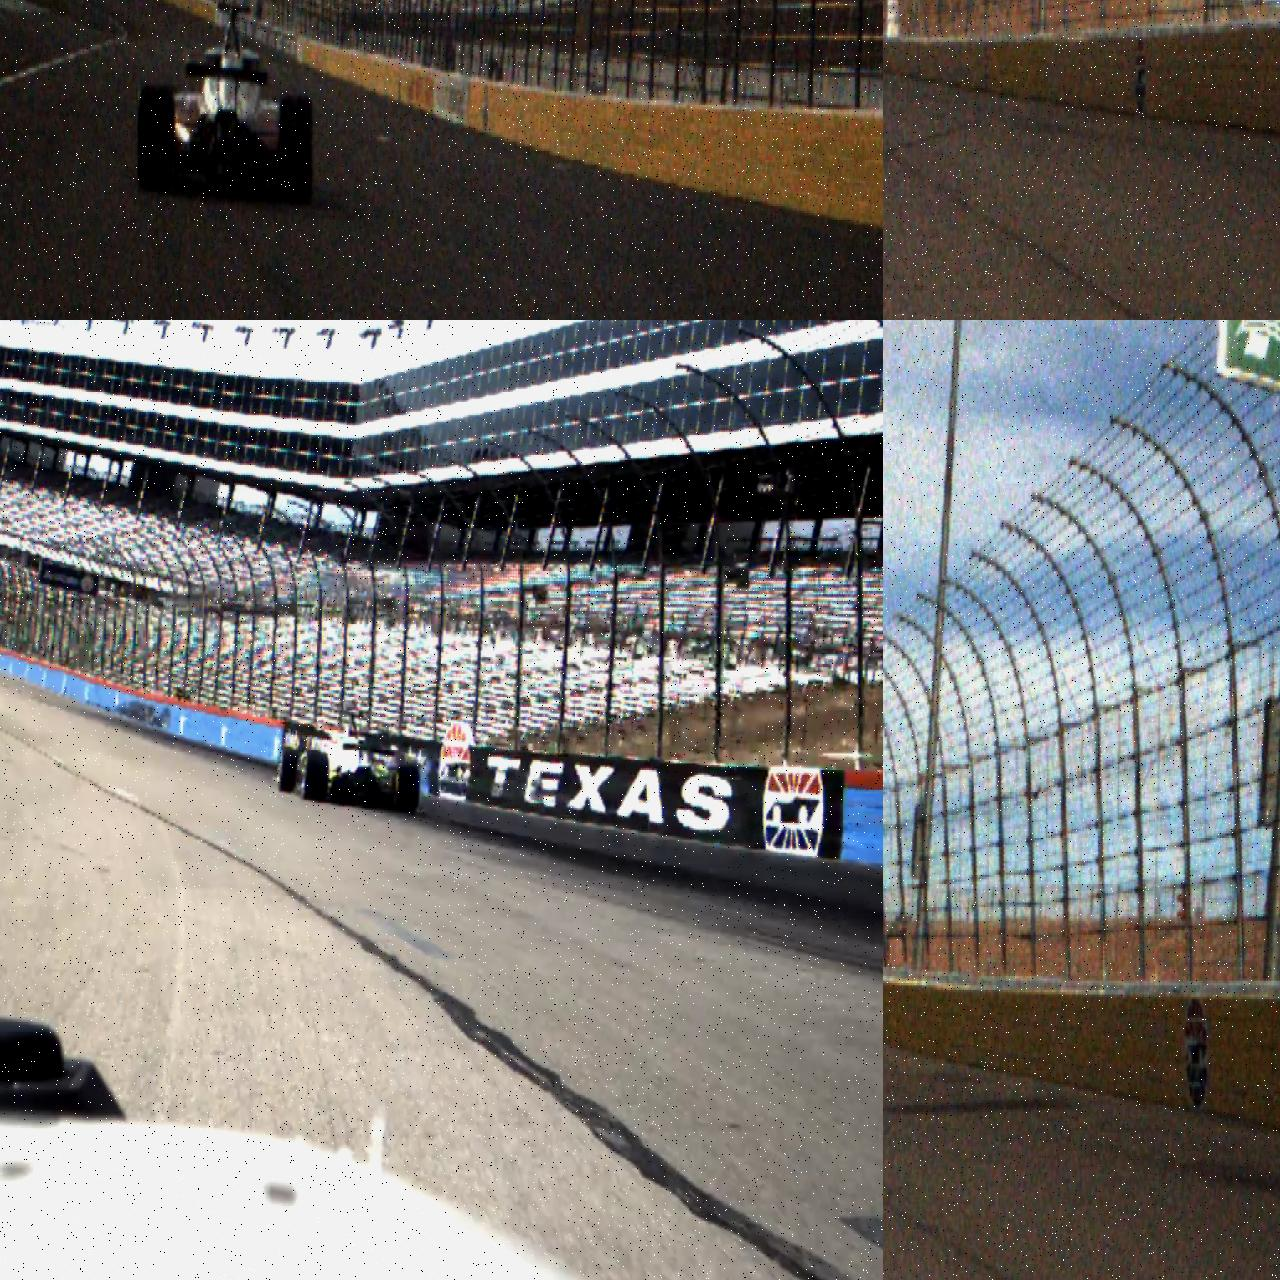AV: (136, 2, 314, 210), (272, 712, 420, 815)
Wheel: (137, 86, 177, 194), (279, 94, 314, 208), (396, 764, 420, 814), (306, 751, 329, 802), (280, 746, 297, 792)
